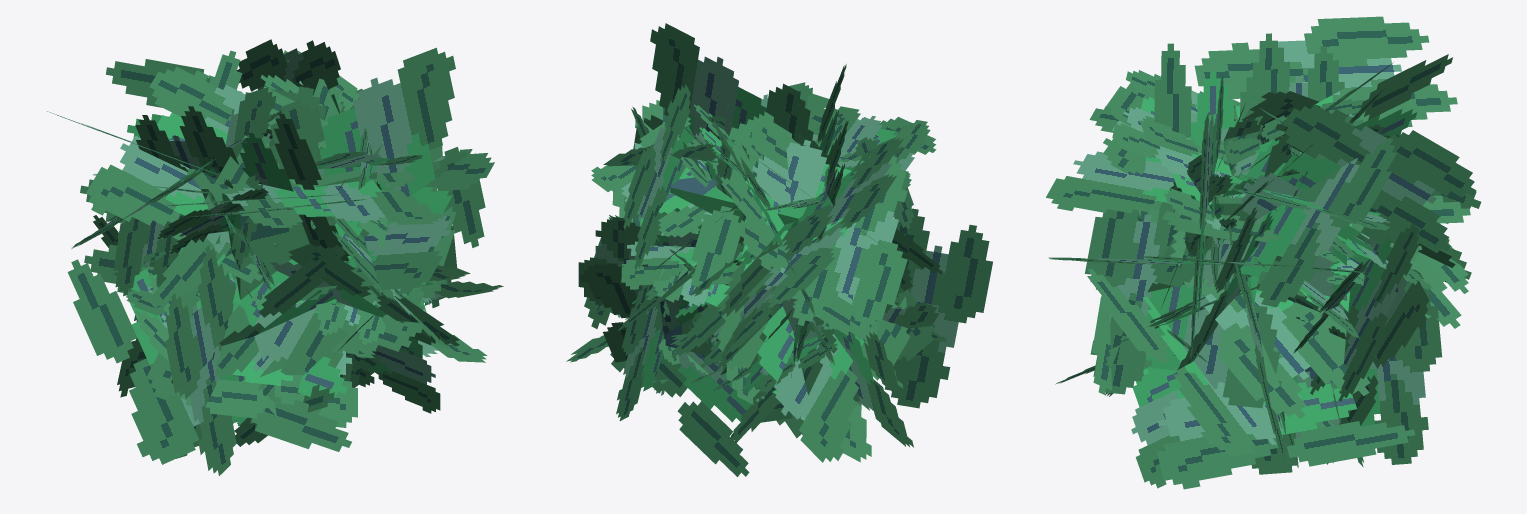
Rendered from Arbusto.fbx.
3 renders of one model, left to right at view 1: azimuth 30°, elevation 25°; view 2: azimuth 150°, elevation 25°; view 3: azimuth 270°, elevation 25°, orthographic. The views are drawn at different scales.
Visible parts, largest first — view 1: BASE; view 2: BASE; view 3: BASE.
Part boxes in pixels (left/top/right/bottom): BASE: left=47, top=39, right=503, bottom=475; BASE: left=566, top=23, right=992, bottom=476; BASE: left=1046, top=16, right=1481, bottom=489.
Bounding box in the file's own units: 217 × 215 × 205.
